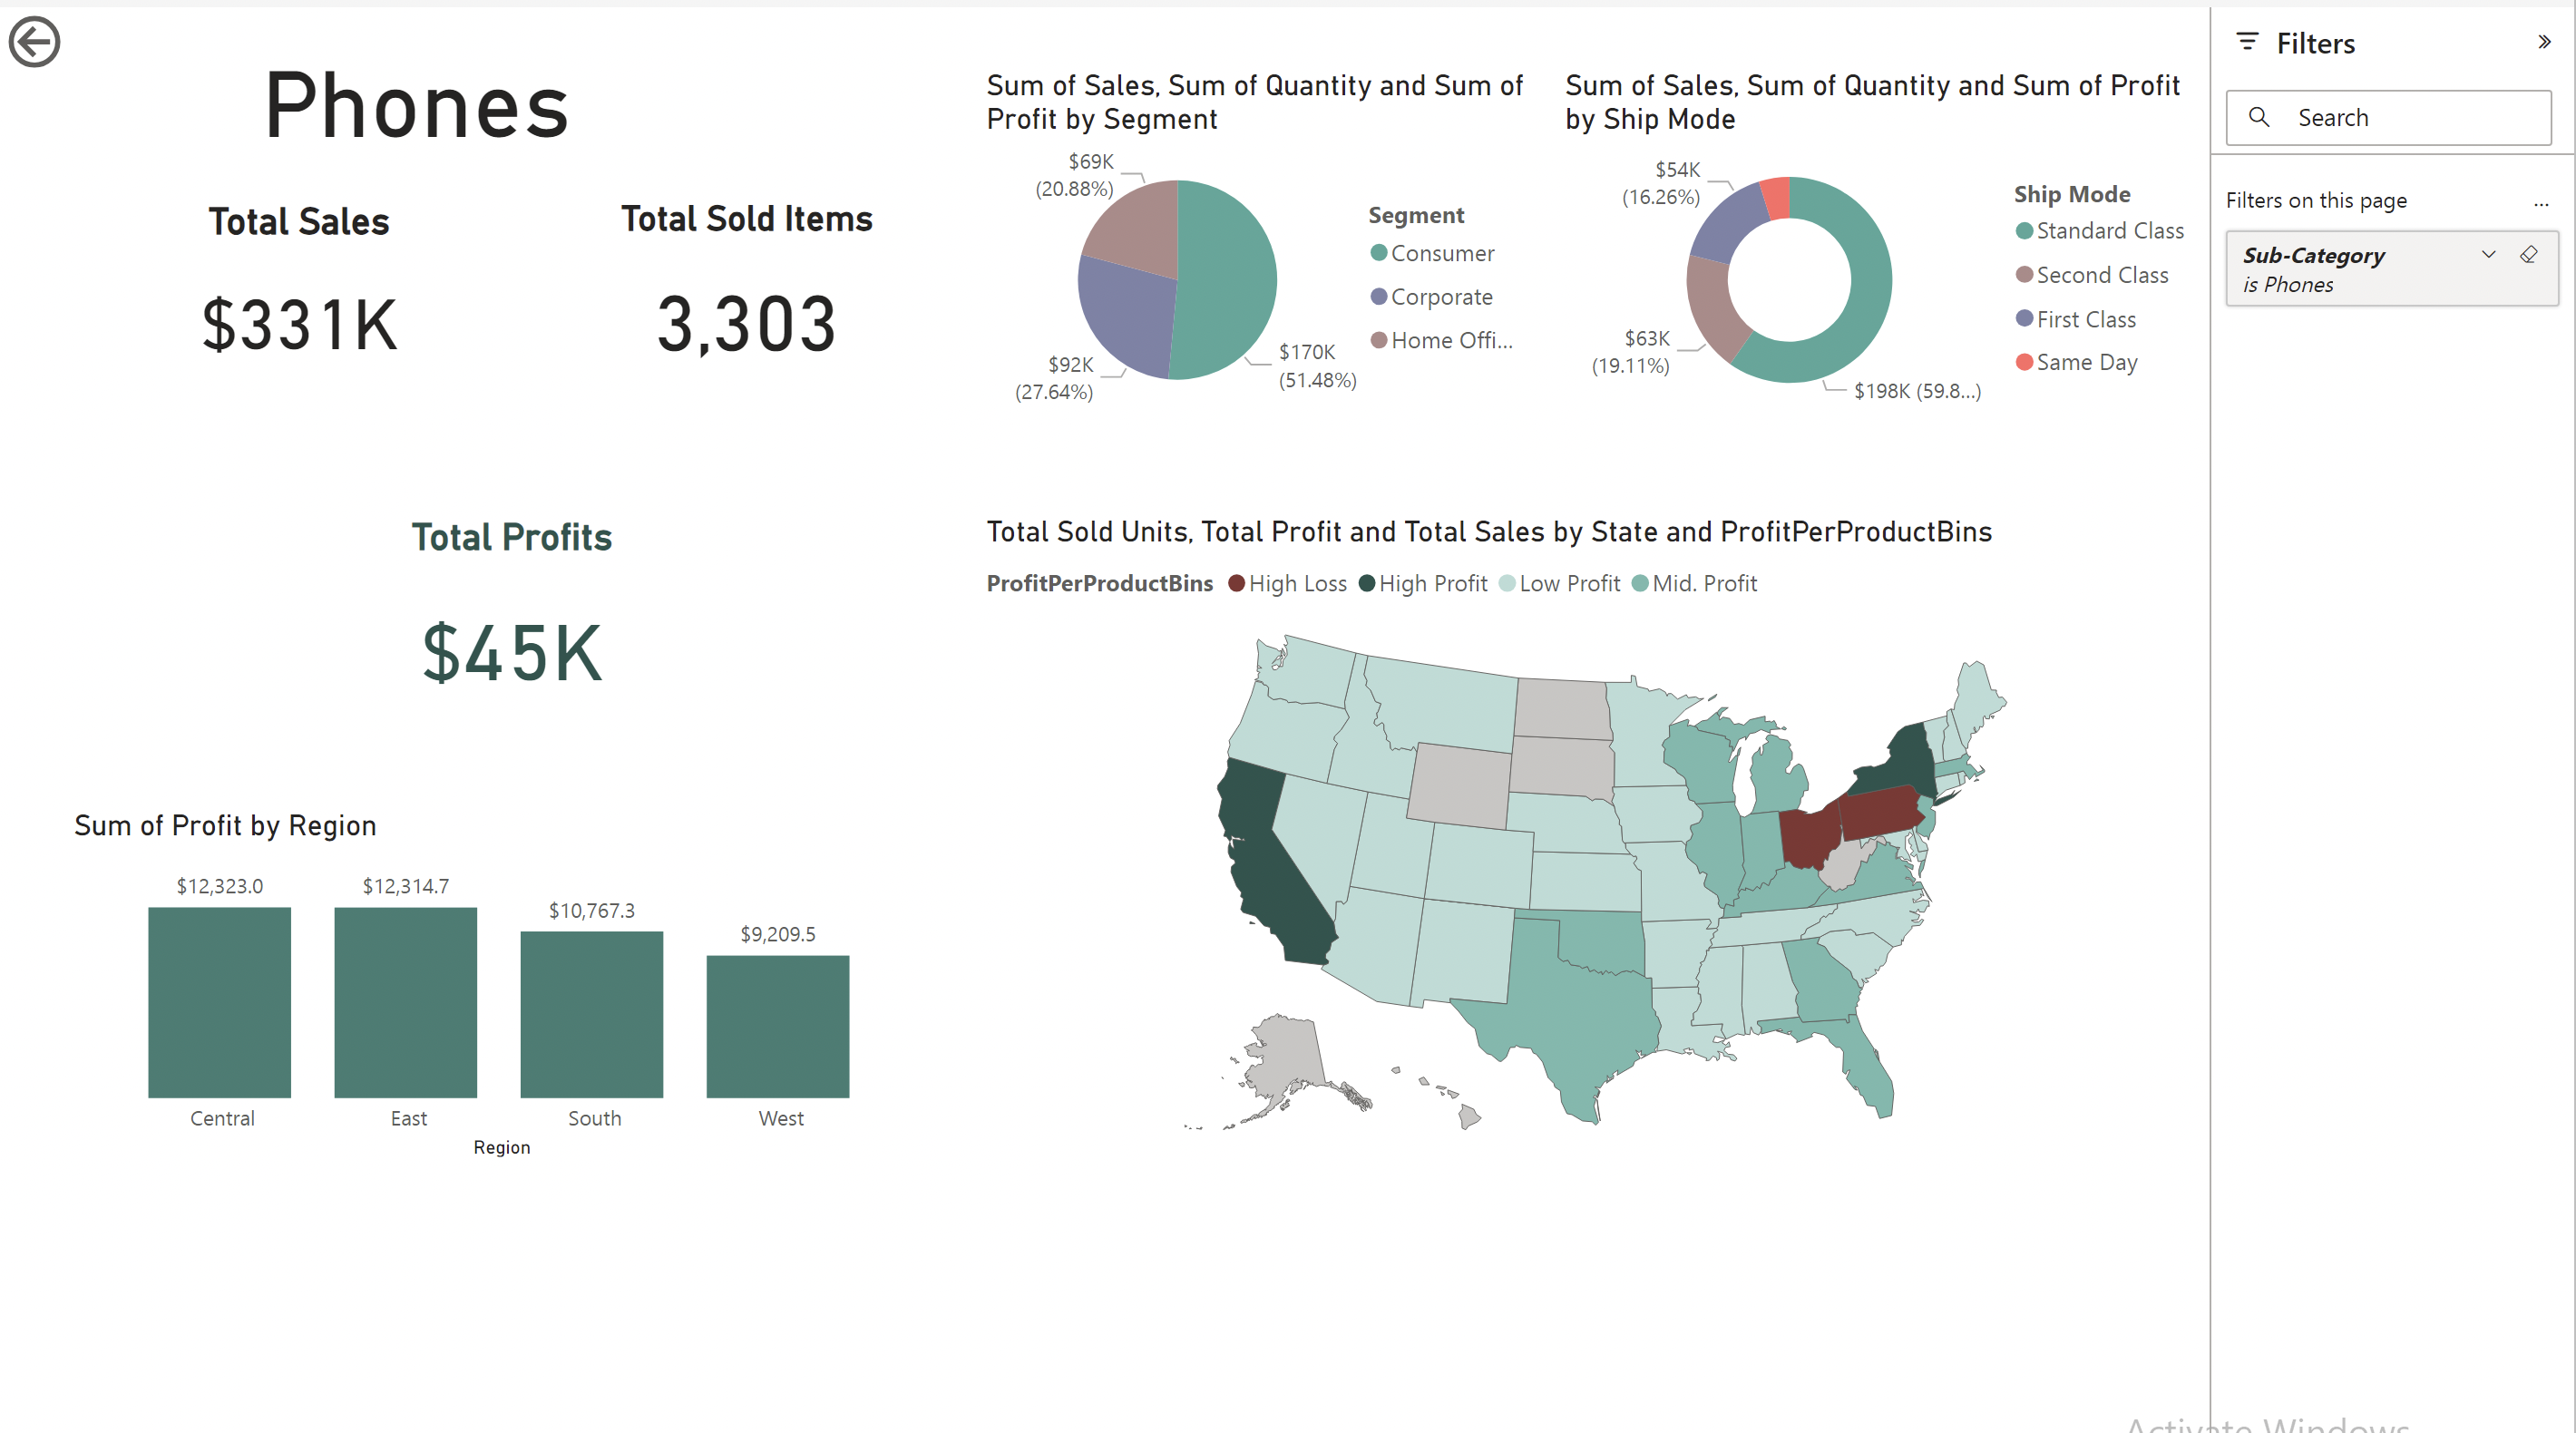

The dashboard page shown, as its layout file describes it:
{"tool":"powerbi","page":{"name":"Product Insights","canvas":[1280,720],"ordinal":6},"visuals":[{"type":"actionButton","box":[0,0,100,40],"z":0},{"type":"card","fields":{"Values":["Min(CategoryDim.Sub-Category)"]},"box":[49.6,0,384,98],"z":1000},{"type":"shapeMap","fields":{"Category":["LocationDim.State"],"Value":["Sum(SalesFact.Quantity)"],"Series":["SalesFact.ProfitPerProductBins"]},"box":[566.2,294.1,716.1,377.1],"z":2000},{"type":"card","title":"Total Sales","fields":{"Values":["Sum(SalesFact.Sales)"]},"box":[49.6,111.9,247.9,116.5],"z":3000},{"type":"card","title":"Total Sold Items","fields":{"Values":["Sum(SalesFact.Quantity)"]},"box":[321.7,110.7,222.6,117.6],"z":4000},{"type":"card","title":"Total Profits","fields":{"Values":["Sum(SalesFact.Profit)"]},"box":[192.6,294.1,208.7,129.2],"z":5000},{"type":"pieChart","fields":{"Y":["Sum(SalesFact.Sales)"],"Category":["ProductDim.Segment"]},"box":[566.4,35.9,326.5,206.3],"z":6000},{"type":"donutChart","fields":{"Y":["Sum(SalesFact.Sales)"],"Category":["ShippingDim.Ship Mode"]},"box":[901.8,35.7,378.2,206.4],"z":7000},{"type":"columnChart","fields":{"Category":["LocationDim.Region"],"Y":["Sum(SalesFact.Profit)"]},"box":[38.1,464.7,506.2,206.4],"z":8000}]}

Visuals, with their boxes on the page's 1280x720 design canvas (x1, y1, x2, y2). These are canvas units, not pixel positions in the 2576x1433 screenshot, which may show the page scaled, cropped or inside an application window:
actionButton: {"left": 0, "top": 0, "right": 100, "bottom": 40}
card - Min(CategoryDim.Sub-Category): {"left": 50, "top": 0, "right": 434, "bottom": 98}
shapeMap - LocationDim.State x Sum(SalesFact.Quantity): {"left": 566, "top": 294, "right": 1282, "bottom": 671}
"Total Sales" card: {"left": 50, "top": 112, "right": 298, "bottom": 228}
"Total Sold Items" card: {"left": 322, "top": 111, "right": 544, "bottom": 228}
"Total Profits" card: {"left": 193, "top": 294, "right": 401, "bottom": 423}
pieChart - Sum(SalesFact.Sales) x ProductDim.Segment: {"left": 566, "top": 36, "right": 893, "bottom": 242}
donutChart - Sum(SalesFact.Sales) x ShippingDim.Ship Mode: {"left": 902, "top": 36, "right": 1280, "bottom": 242}
columnChart - LocationDim.Region x Sum(SalesFact.Profit): {"left": 38, "top": 465, "right": 544, "bottom": 671}
